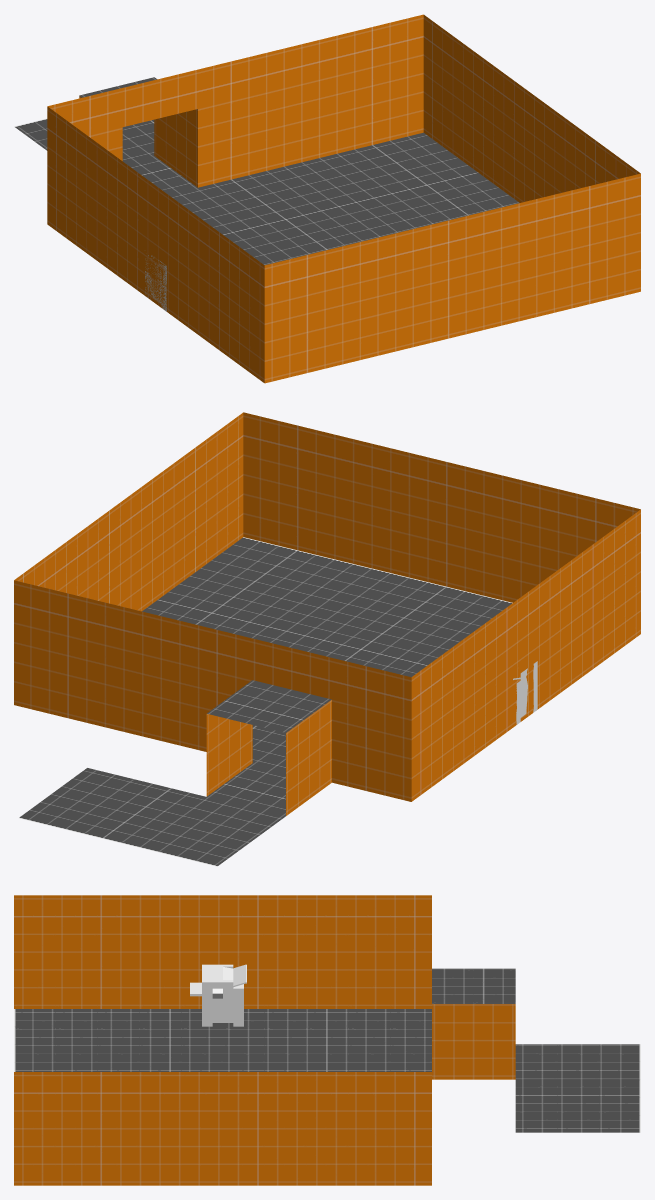
Rendered from office.glb.
The picture shows the model from 3 angles, top to bottom: view 1: azimuth 30°, elevation 25°; view 2: azimuth 150°, elevation 25°; view 3: azimuth 270°, elevation 25°; orthographic projection. The views are drawn at different scales.
Parts seen in each view (by area): view 1: RoomWalls, RoomFloor, CopyMachine; view 2: RoomWalls, RoomFloor, CopyMachine; view 3: RoomWalls, RoomFloor, CopyMachine.
Part boxes in pixels (x1,y1,x2,y2): RoomWalls: (47, 14, 640, 383); RoomFloor: (14, 77, 519, 265); CopyMachine: (145, 255, 166, 311); RoomWalls: (14, 412, 640, 815); RoomFloor: (19, 537, 512, 866); CopyMachine: (513, 661, 537, 724); RoomWalls: (14, 895, 515, 1185); RoomFloor: (14, 968, 640, 1132); CopyMachine: (190, 964, 246, 1026).
Size of the model in its own units: 10 by 3 by 15.
Materials: 3 (2 with a texture image).
